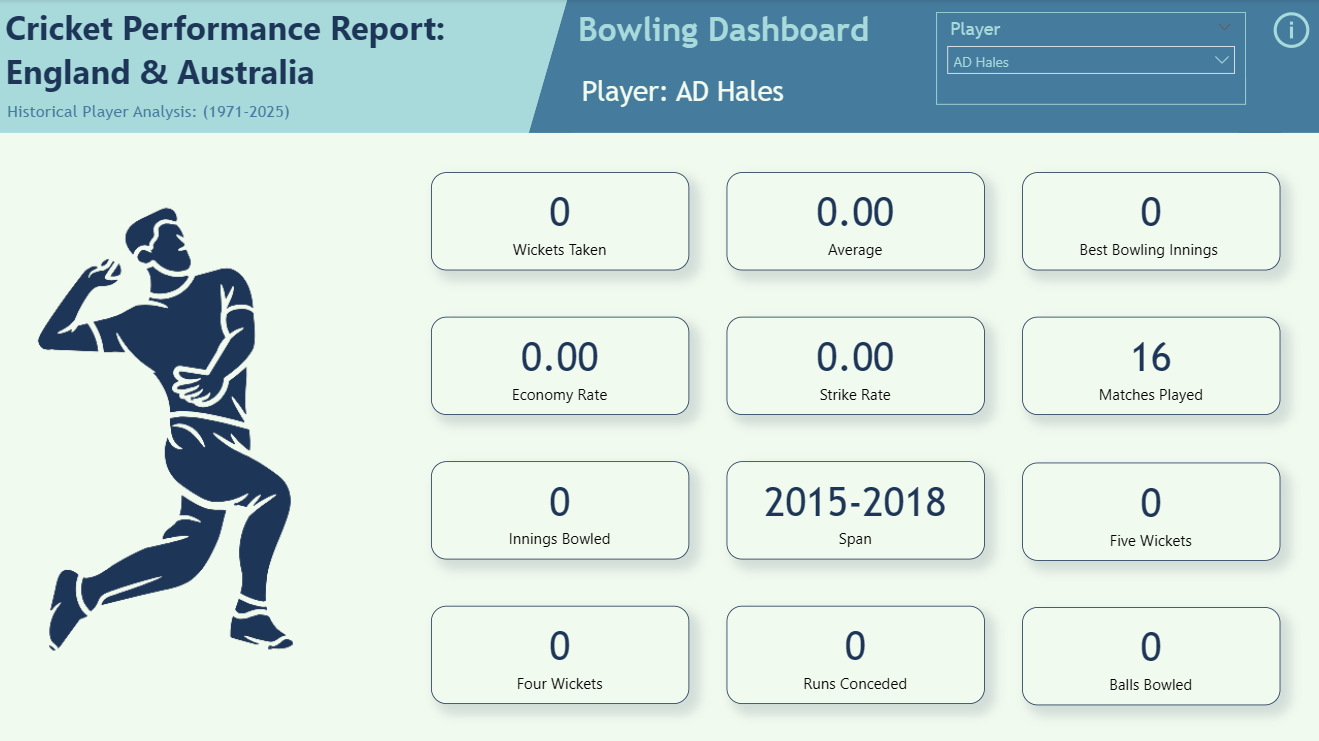

The dashboard page shown, as its layout file describes it:
{"tool":"powerbi","page":{"name":"Bowling","canvas":[1280,720],"ordinal":1},"visuals":[{"type":"shape","title":"Cricket Performance Report: England & Australia","box":[0,0,555.4,130],"z":0},{"type":"shape","title":"Batting Dashboard","box":[512.4,0,767.4,130],"z":1000},{"type":"shape","box":[1200.3,0,79.5,130],"z":2000},{"type":"textbox","box":[555.4,5,308,51.7],"z":3000},{"type":"textbox","box":[0,0,555.4,102.2],"z":4000},{"type":"slicer","fields":{"Values":["Bowling.Player "]},"box":[908,13,300,89.6],"z":5000},{"type":"card","fields":{"Values":["_Measures.Bowling Player Name"]},"box":[531.4,56.8,260,65.6],"z":6000},{"type":"card","fields":{"Values":["Sum(Bowling.Runs Conceded)"]},"box":[704.3,588.2,250,95],"z":7000},{"type":"card","fields":{"Values":["Sum(Bowling.BowlingAverage)"]},"box":[704.3,167.9,250,95],"z":8000},{"type":"card","fields":{"Values":["Sum(Bowling.Wickets Taken)"]},"box":[417.8,167.9,250,95],"z":9000},{"type":"card","fields":{"Values":["Sum(Bowling.Matches Played)"]},"box":[990.8,308.4,250,95],"z":10000},{"type":"card","fields":{"Values":["Sum(Bowling.Strike Rate)"]},"box":[704.3,308,250,95],"z":11000},{"type":"card","fields":{"Values":["Sum(Bowling.Balls Bowled)"]},"box":[990.8,589.4,250,95],"z":12000},{"type":"card","fields":{"Values":["Sum(Bowling.Innings Bowled)"]},"box":[417.8,448.1,250,95],"z":13000},{"type":"card","fields":{"Values":["Min(Bowling.Span )"]},"box":[704.3,448.1,250,95],"z":14000},{"type":"card","fields":{"Values":["Sum(Bowling.Economy Rate)"]},"box":[417.8,308,250,95],"z":15000},{"type":"card","fields":{"Values":["Min(Bowling.Best Bowling Innings )"]},"box":[990.8,167.9,250,95],"z":16000},{"type":"card","fields":{"Values":["Sum(Bowling.4 Wickets Inns)"]},"box":[417.8,588.2,250,95],"z":17000},{"type":"card","fields":{"Values":["Sum(Bowling.5 Wickets Inns)"]},"box":[990.8,448.9,250,95],"z":18000},{"type":"actionButton","box":[1229.4,7.6,45.4,45.4],"z":19000}]}

Visuals, with their boxes in screenshot pixels (x1, y1, x2, y2), scaled from the page's 1280x720 canvas onto the 1319x741 screenshot:
"Cricket Performance Report: England & Australia" shape: locate(0, 0, 572, 134)
"Batting Dashboard" shape: locate(528, 0, 1318, 134)
shape: locate(1237, 0, 1318, 134)
textbox: locate(572, 5, 890, 58)
textbox: locate(0, 0, 572, 105)
slicer - Bowling.Player : locate(936, 13, 1245, 106)
card - _Measures.Bowling Player Name: locate(548, 58, 816, 126)
card - Sum(Bowling.Runs Conceded): locate(726, 605, 983, 703)
card - Sum(Bowling.BowlingAverage): locate(726, 173, 983, 271)
card - Sum(Bowling.Wickets Taken): locate(431, 173, 688, 271)
card - Sum(Bowling.Matches Played): locate(1021, 317, 1279, 415)
card - Sum(Bowling.Strike Rate): locate(726, 317, 983, 415)
card - Sum(Bowling.Balls Bowled): locate(1021, 607, 1279, 704)
card - Sum(Bowling.Innings Bowled): locate(431, 461, 688, 559)
card - Min(Bowling.Span ): locate(726, 461, 983, 559)
card - Sum(Bowling.Economy Rate): locate(431, 317, 688, 415)
card - Min(Bowling.Best Bowling Innings ): locate(1021, 173, 1279, 271)
card - Sum(Bowling.4 Wickets Inns): locate(431, 605, 688, 703)
card - Sum(Bowling.5 Wickets Inns): locate(1021, 462, 1279, 560)
actionButton: locate(1267, 8, 1314, 55)
